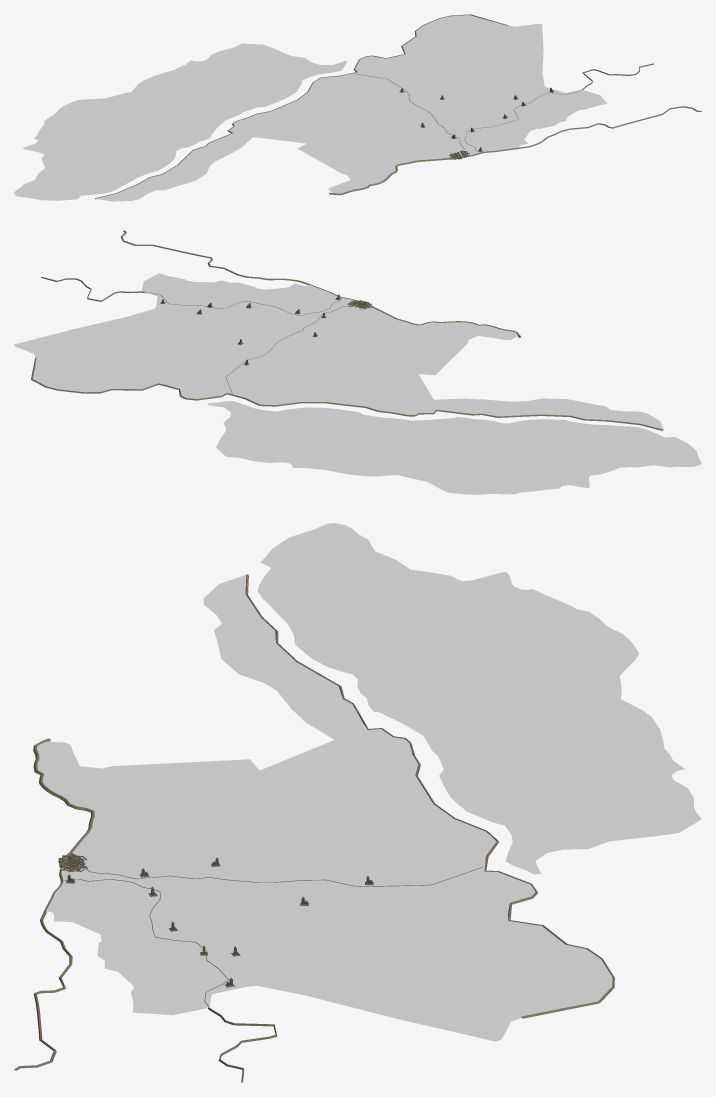
The model's file is assets.glb.
The picture shows the model from 3 angles, top to bottom: view 1: azimuth 30°, elevation 25°; view 2: azimuth 150°, elevation 25°; view 3: azimuth 270°, elevation 25°; orthographic projection. The views are drawn at different scales.
Visible parts, largest first — view 1: Water, Dijk, Dijk.001; view 2: Water, Dijk, Dijk.001; view 3: Water, Dijk, Dijk.001.
Part boxes in pixels (x1,y1,x2,y2): Water: [14, 15, 607, 201]; Dijk: [95, 14, 701, 199]; Dijk.001: [354, 63, 653, 152]; Water: [14, 273, 701, 494]; Dijk: [31, 230, 663, 430]; Dijk.001: [41, 276, 348, 393]; Water: [37, 523, 701, 1041]; Dijk: [14, 574, 614, 1070]; Dijk.001: [63, 867, 482, 1082].
Size of the model in its own units: 952 by 7.21 by 496.
